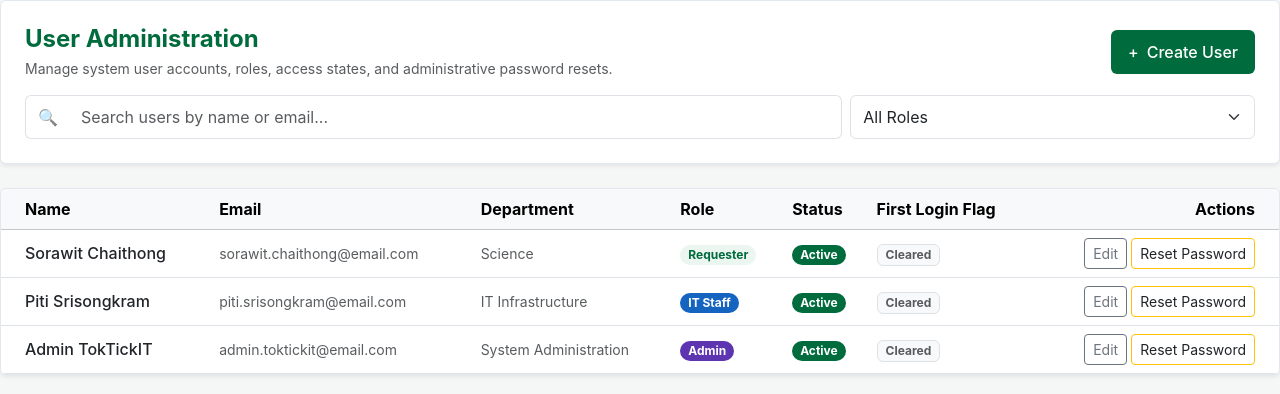
Scenario: UserManagement Component (UI-07 / AC-20..22, BR-16..21) › UI-07: filters user list by keyword search
This screenshot has width=1280, height=394.
Expected: the row with test id "user-row-1" is shown, [1, 229, 1279, 277]
Type "piti" into the field with test id "admin-search-input" at (456, 117), box [69, 95, 842, 139]
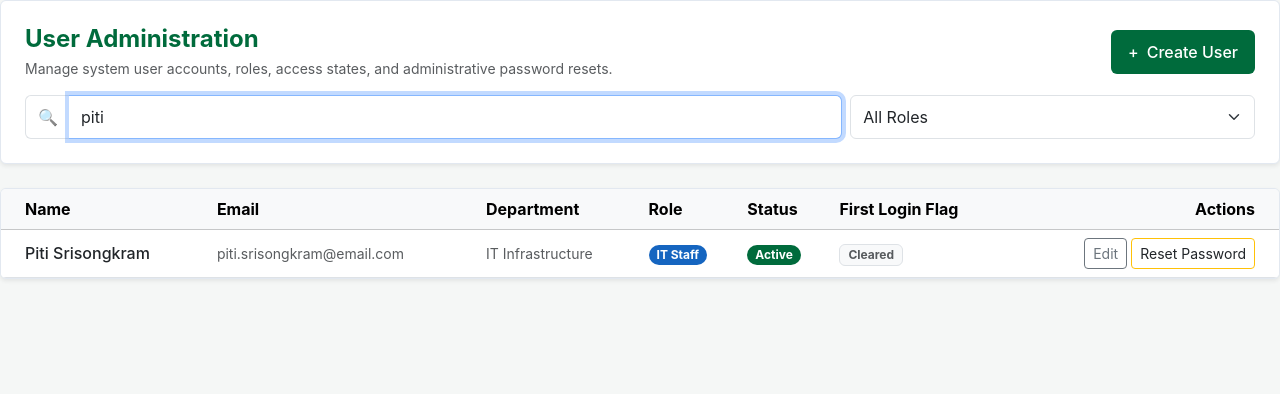
Expected: the table with test id "admin-users-table" shows "Piti Srisongkram", [25, 243, 150, 263]
Result: the table with test id "admin-users-table" no longer shows "Sorawit Chaithong" at [1, 189, 1279, 278]
